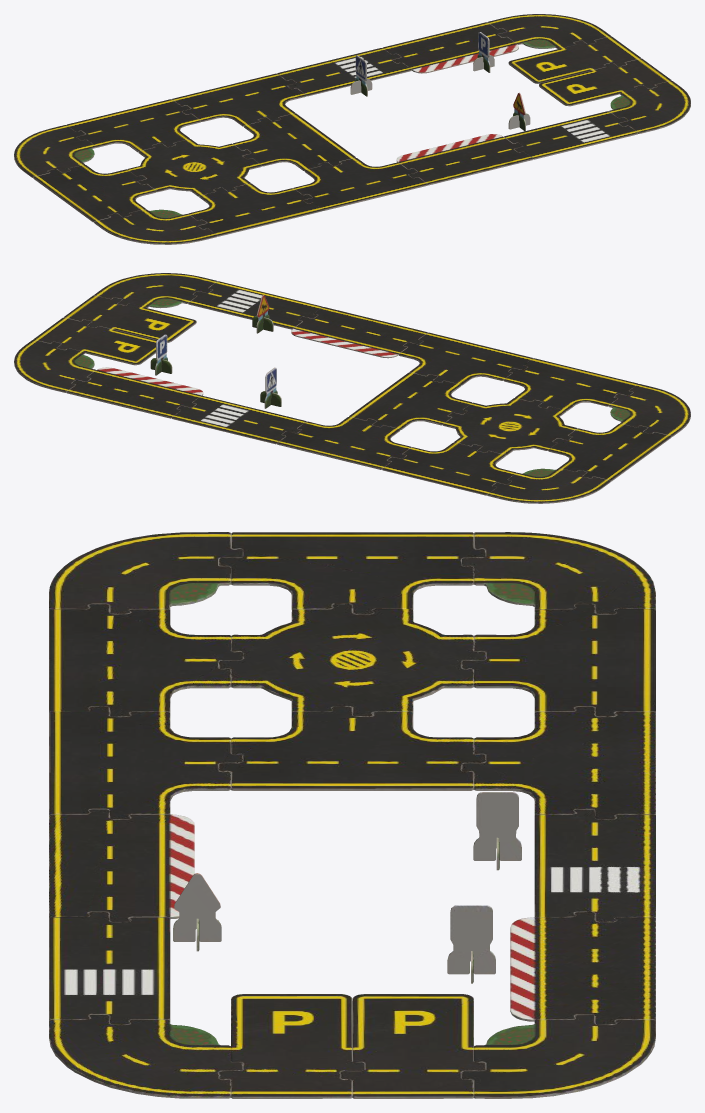
Rendered from ravunge_tor_samochodowy_23_czesci_60538856.glb.
3 views of the same model, one above another, from view 1: azimuth 30°, elevation 25°; view 2: azimuth 150°, elevation 25°; view 3: azimuth 270°, elevation 25° (orthographic). The views are drawn at different scales.
Visible parts, largest first — view 1: ravunge_tor_samochodowy_23_czesci_60538856; view 2: ravunge_tor_samochodowy_23_czesci_60538856; view 3: ravunge_tor_samochodowy_23_czesci_60538856.
Boxes of the visible parts, x1,y1,x2,y2 form: ravunge_tor_samochodowy_23_czesci_60538856: (14,14,690,244); ravunge_tor_samochodowy_23_czesci_60538856: (14,273,690,503); ravunge_tor_samochodowy_23_czesci_60538856: (49,532,655,1098).
Size of the model in its own units: 1.1 by 0.0622 by 0.5001.
1 material, 1 textured.
